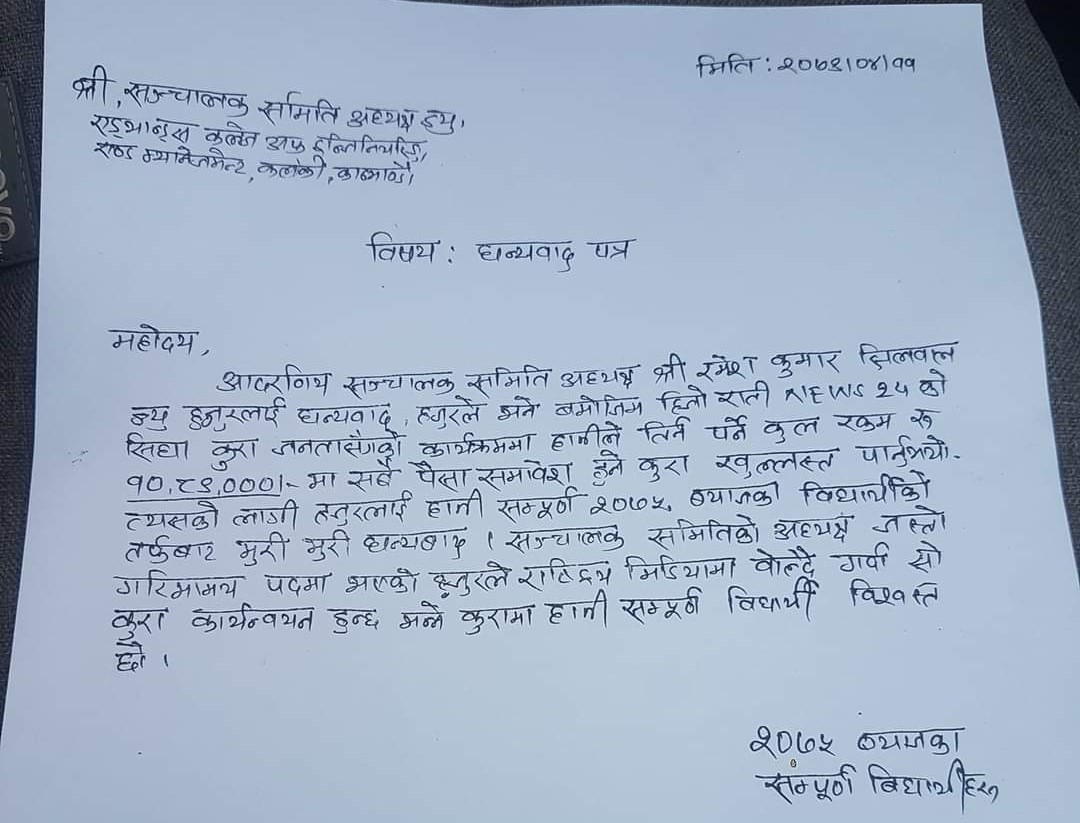text: (866, 755, 1002, 815), (121, 76, 253, 118), (724, 575, 821, 625), (187, 600, 318, 637), (112, 566, 240, 603), (775, 47, 919, 79), (712, 444, 840, 480), (756, 761, 859, 805), (799, 473, 936, 506), (267, 427, 408, 459), (621, 547, 739, 584), (474, 235, 579, 275), (213, 362, 335, 396), (645, 515, 763, 550), (122, 470, 278, 496), (86, 106, 195, 143), (361, 525, 473, 560), (140, 143, 248, 179), (502, 523, 631, 553), (853, 723, 966, 757), (844, 576, 941, 615), (348, 101, 462, 134), (184, 397, 286, 433), (121, 499, 223, 535), (312, 128, 426, 160), (516, 555, 617, 591), (338, 368, 458, 398), (122, 532, 222, 567), (855, 436, 954, 471), (104, 322, 200, 358), (418, 430, 539, 458), (618, 586, 702, 626), (256, 90, 342, 128), (747, 722, 837, 758), (432, 559, 511, 600), (292, 399, 395, 430), (855, 337, 961, 367), (476, 458, 575, 490), (311, 495, 412, 526), (686, 479, 784, 510), (543, 588, 613, 631), (868, 503, 951, 539), (365, 228, 441, 267), (461, 600, 540, 636), (551, 393, 649, 422), (342, 565, 423, 599), (494, 492, 577, 525), (464, 362, 552, 393), (333, 157, 420, 187), (124, 430, 196, 466), (412, 396, 485, 430), (229, 498, 304, 531), (559, 360, 637, 391), (771, 514, 854, 543), (260, 567, 335, 599), (231, 530, 292, 569), (768, 347, 841, 379), (748, 546, 816, 579), (546, 422, 626, 450), (692, 48, 760, 80), (299, 527, 356, 565), (409, 457, 472, 491), (109, 604, 166, 641), (325, 603, 384, 638), (693, 351, 761, 381), (257, 152, 327, 181), (836, 541, 894, 576), (761, 413, 824, 445), (585, 494, 671, 517), (422, 490, 487, 520), (394, 601, 447, 635), (68, 63, 113, 103), (634, 451, 688, 484), (211, 436, 260, 471), (344, 461, 397, 493), (492, 392, 540, 427), (587, 448, 629, 488), (202, 120, 260, 148), (717, 384, 774, 411), (906, 536, 946, 574), (833, 411, 896, 435), (657, 387, 709, 416), (641, 417, 693, 446), (649, 351, 692, 385), (127, 399, 174, 430), (708, 415, 753, 445), (589, 236, 637, 262), (93, 137, 138, 164), (260, 131, 308, 156), (916, 368, 953, 400), (305, 468, 340, 491)
